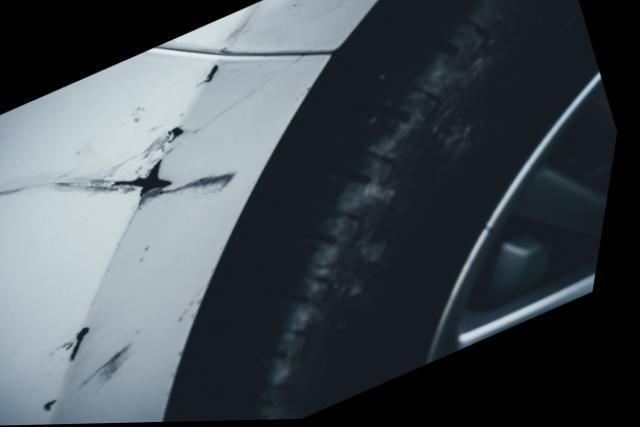scratch: (0, 60, 239, 230), (28, 318, 160, 426)
